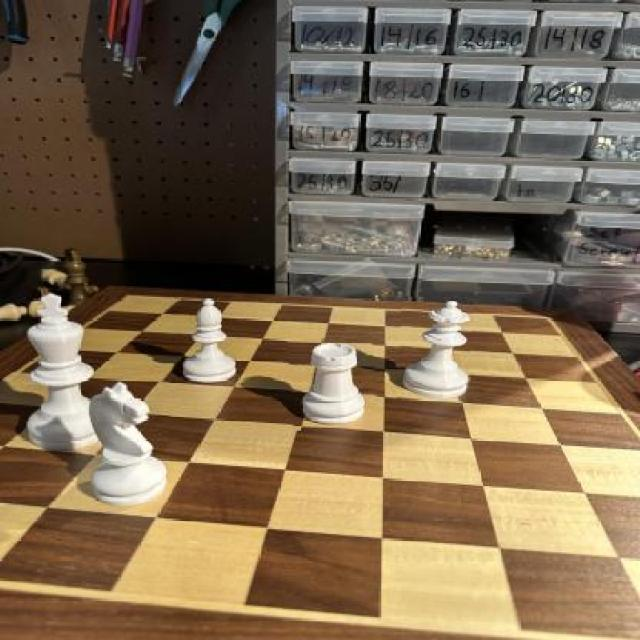black-rook: (175, 292, 242, 386)
white-bishop: (12, 291, 116, 452)
white-king: (80, 382, 172, 506)
white-pawn: (398, 297, 474, 400)
white-queen: (289, 338, 378, 431)
